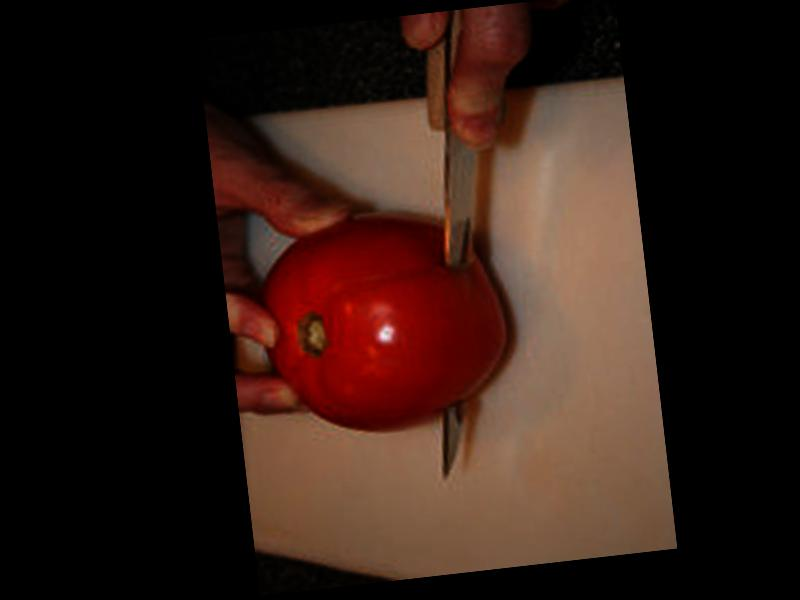Tomato: (251, 204, 516, 445)
